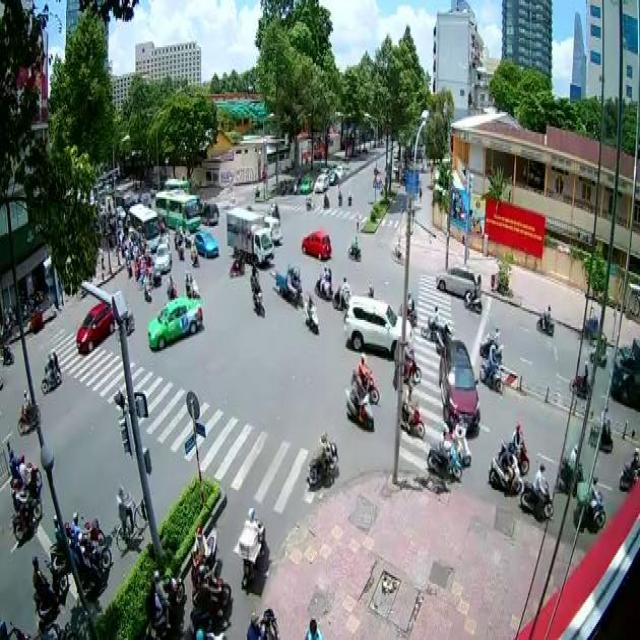bicycle: (113, 479, 148, 552)
bus: (154, 190, 199, 228), (127, 201, 158, 253)
car: (342, 291, 412, 354), (439, 340, 479, 434), (148, 293, 210, 349), (74, 300, 114, 354), (435, 260, 480, 296), (300, 228, 331, 260), (192, 226, 219, 257), (154, 242, 171, 271)
motorcycle: (143, 567, 183, 640), (74, 528, 112, 598), (237, 504, 266, 592), (31, 552, 68, 620), (187, 526, 217, 602), (10, 479, 43, 544), (519, 463, 555, 521), (487, 440, 522, 496), (306, 427, 337, 490), (573, 474, 604, 532), (497, 420, 529, 476), (554, 441, 583, 497), (10, 454, 43, 499), (478, 344, 504, 394), (14, 387, 40, 434), (418, 304, 444, 342), (40, 347, 61, 394), (478, 324, 502, 362), (568, 360, 589, 400), (331, 273, 352, 311), (396, 290, 418, 326), (248, 268, 264, 316), (313, 262, 332, 300), (534, 300, 554, 336), (303, 293, 320, 334), (288, 266, 302, 309), (184, 270, 201, 296), (346, 233, 360, 262), (166, 271, 177, 300), (189, 242, 200, 268)
truck: (224, 204, 274, 266)
